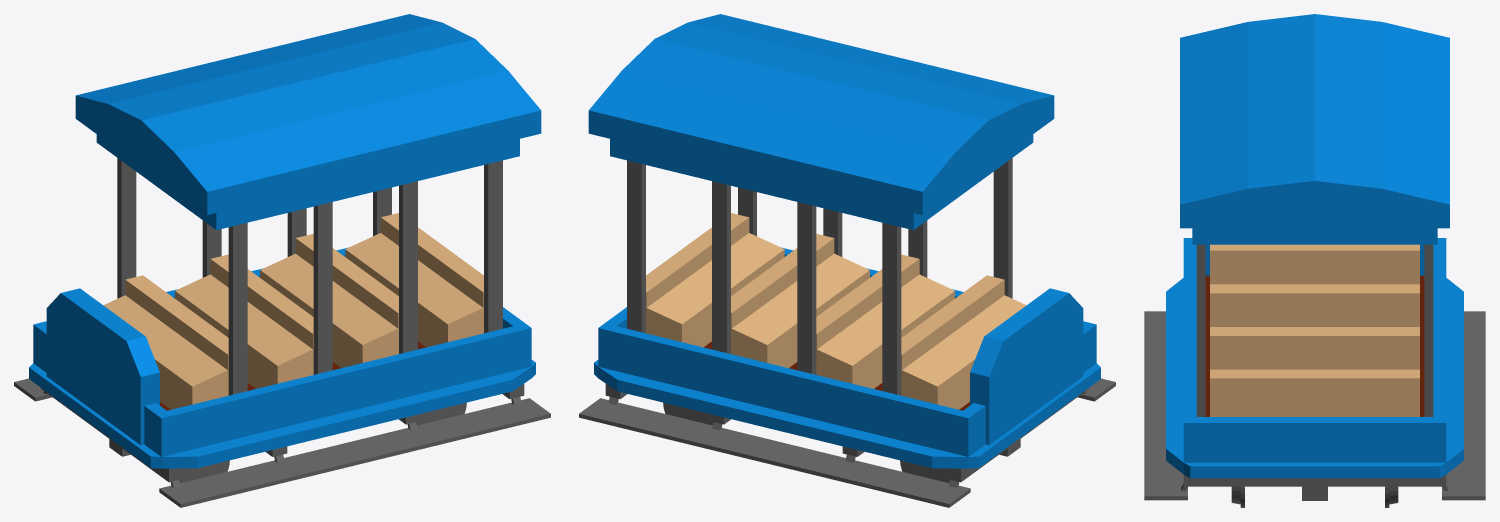
The model's file is bonde.glb.
3 renders of one model, left to right at view 1: azimuth 30°, elevation 25°; view 2: azimuth 150°, elevation 25°; view 3: azimuth 270°, elevation 25°, orthographic. The views are drawn at different scales.
Parts seen in each view (by area): view 1: Cobertura, Carro, Cadeiras, Suportes, Rodas; view 2: Cobertura, Carro, Cadeiras, Suportes, Rodas; view 3: Cobertura, Cadeiras, Carro, Rodas, Suportes.
Boxes of the visible parts, x1,y1,x2,y2 form: Cobertura: (75,14,541,230); Carro: (29,247,535,468); Cadeiras: (103,213,483,409); Suportes: (117,158,502,395); Rodas: (14,378,550,507); Cobertura: (588,14,1054,230); Carro: (594,247,1100,468); Cadeiras: (646,213,1026,409); Suportes: (627,158,1012,395); Rodas: (579,378,1115,507); Cobertura: (1180,14,1449,244); Cadeiras: (1210,244,1419,416); Carro: (1166,238,1463,478); Rodas: (1144,311,1485,507); Suportes: (1196,244,1433,416).
Size of the model in its own units: 5.21 by 4.55 by 3.9.
